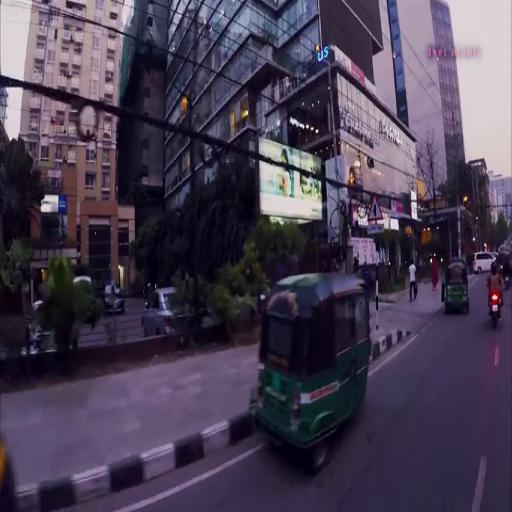car: (141, 288, 195, 333), (103, 281, 125, 315)
minivan: (472, 251, 496, 274)
motorbike: (487, 273, 503, 328)
three wheelers (CNG): (251, 273, 372, 461), (444, 256, 470, 309)
